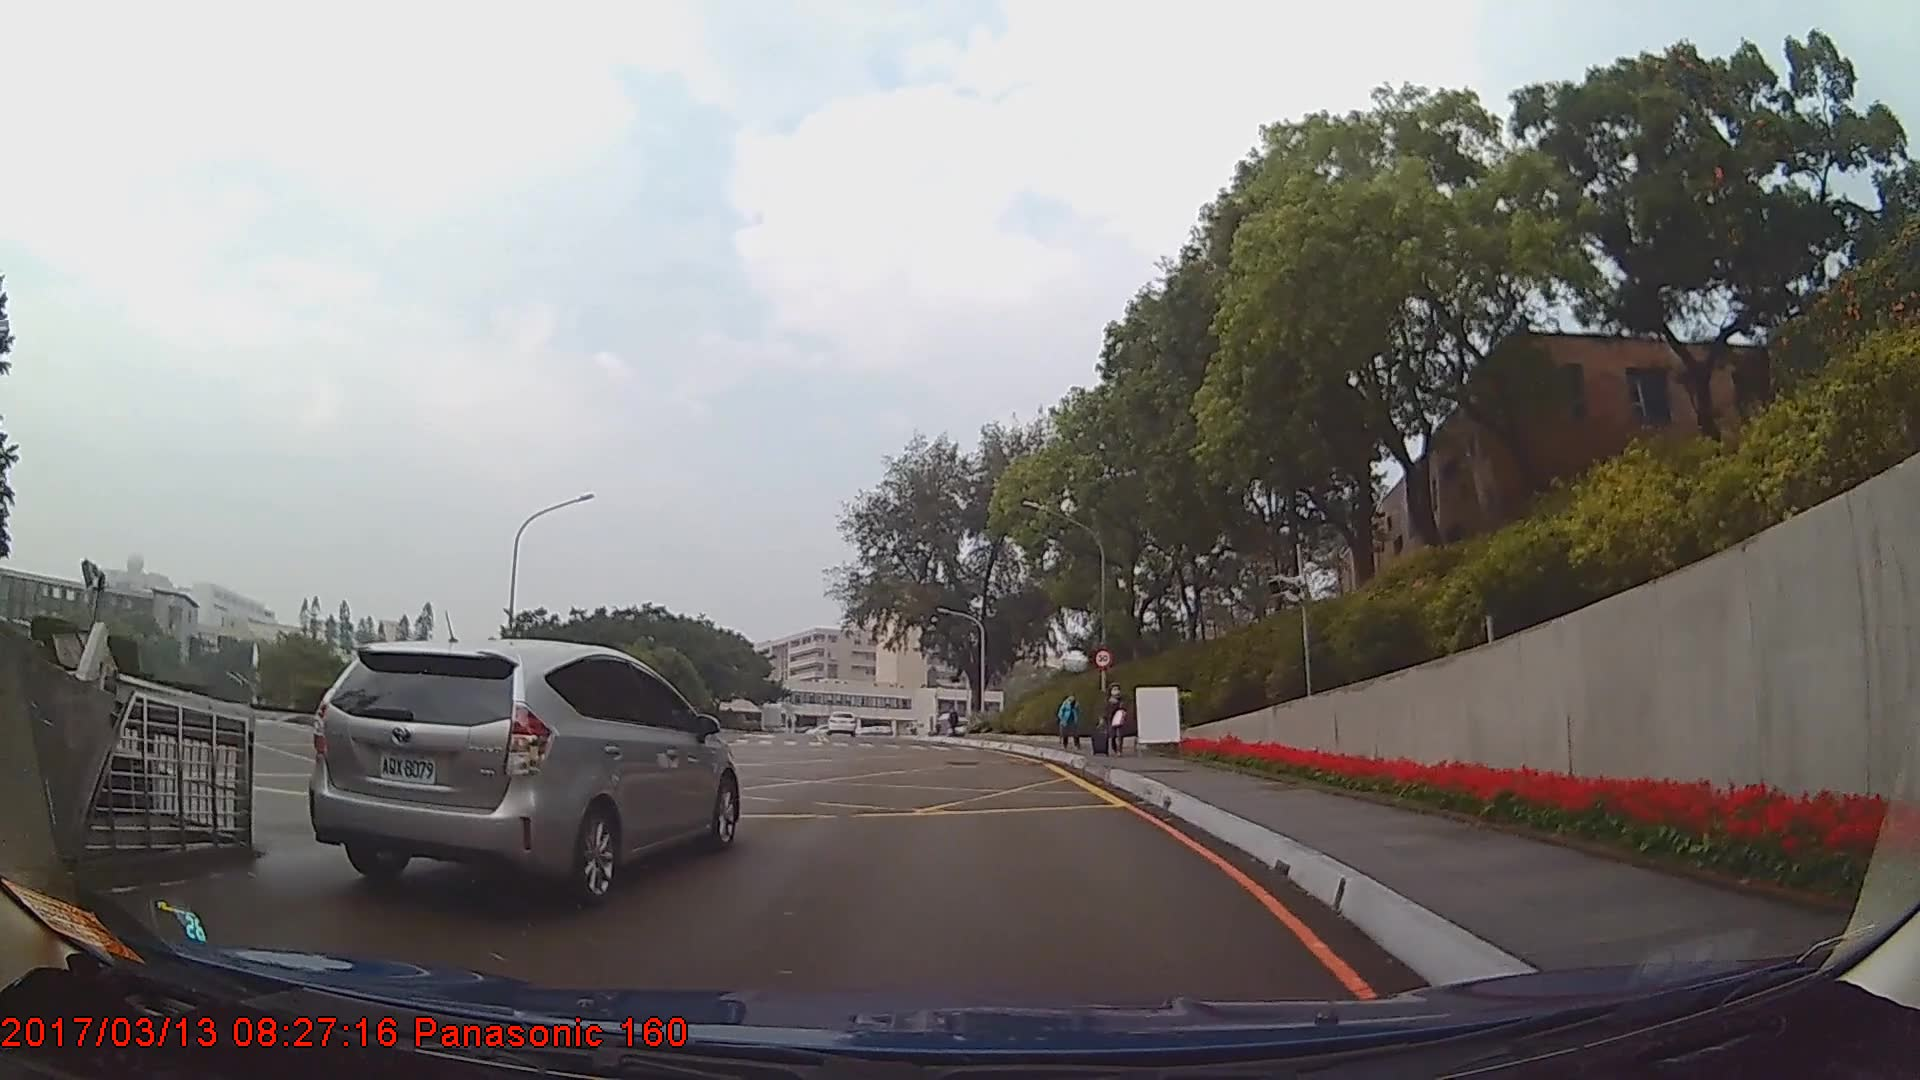pedestrian: (1093, 686, 1133, 760), (1058, 695, 1081, 752)
vehicle: (304, 637, 739, 908), (822, 708, 856, 735)
